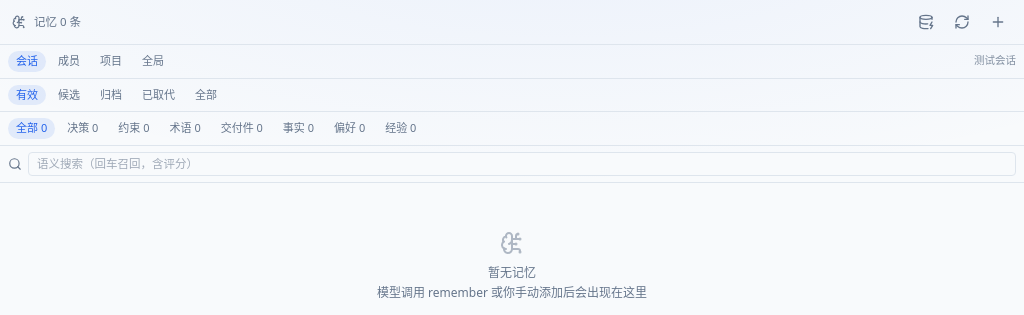
Test case: M25.3d：记忆面板 › 语义搜索：POST /api/memories/recall → 展示评分与 scope 徽标
The width and height of the screenshot is (1024, 315).
Type "发布窗口" into the field with placeholder "语义搜索（回车召回，含评分）".
click(522, 164); type("发布窗口")  # box [28,152,1016,176]
Then press Enter
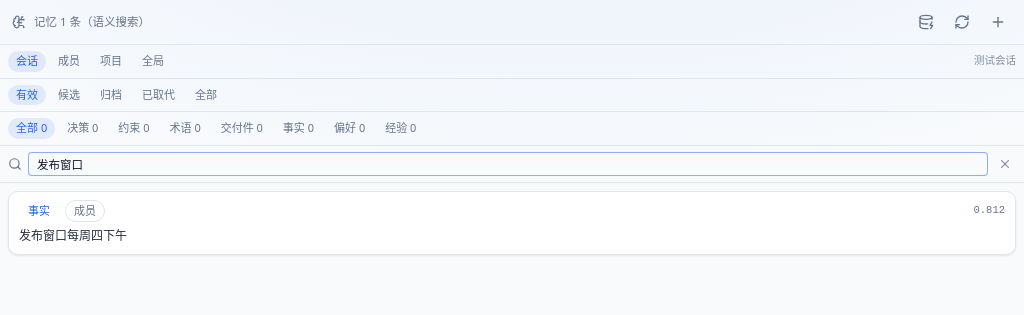
Result: the text "0.812" is shown at [974,203,1005,219]
Result: the text "成员" is shown at [65,200,105,222]
